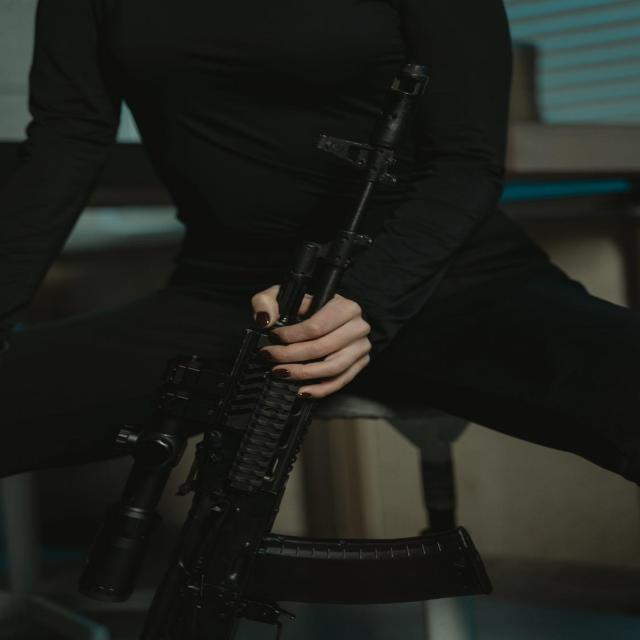weapon: (74, 61, 498, 640)
